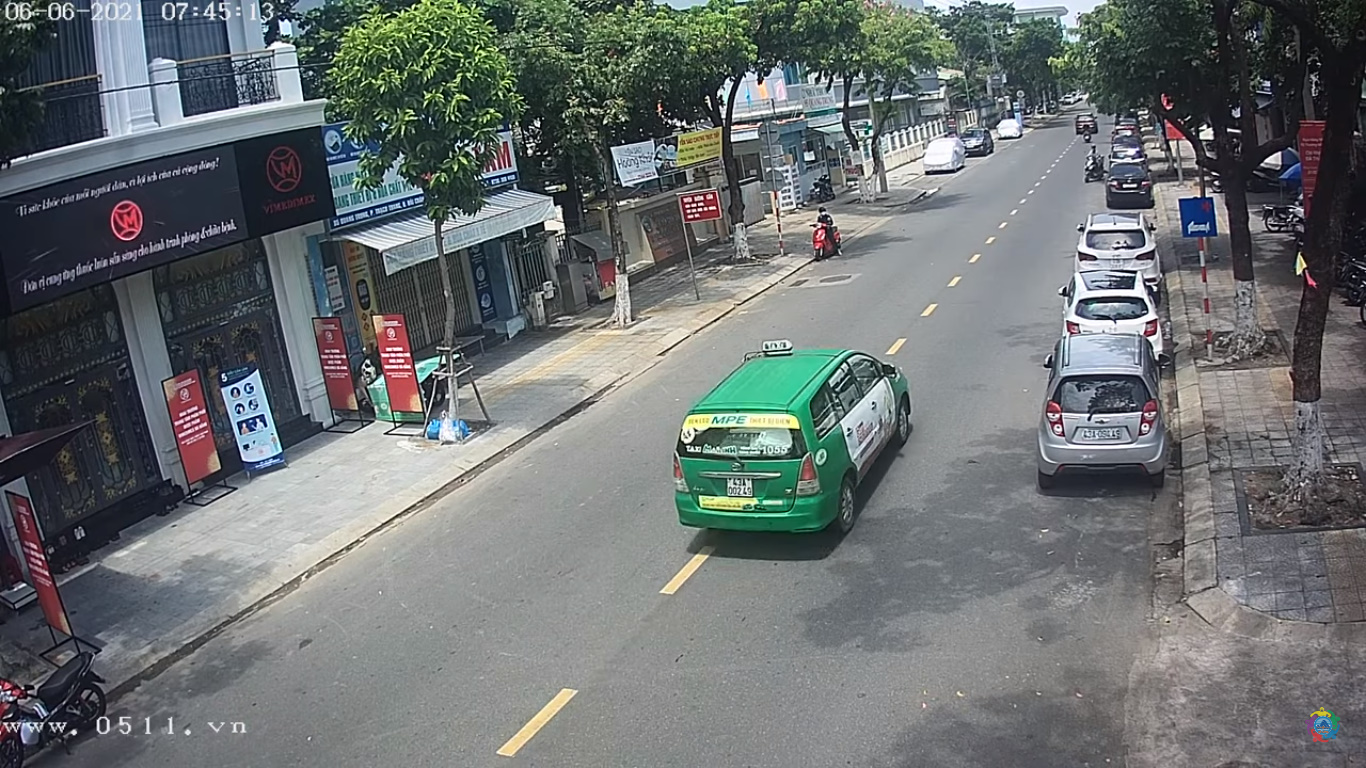car: (667, 342, 917, 547)
